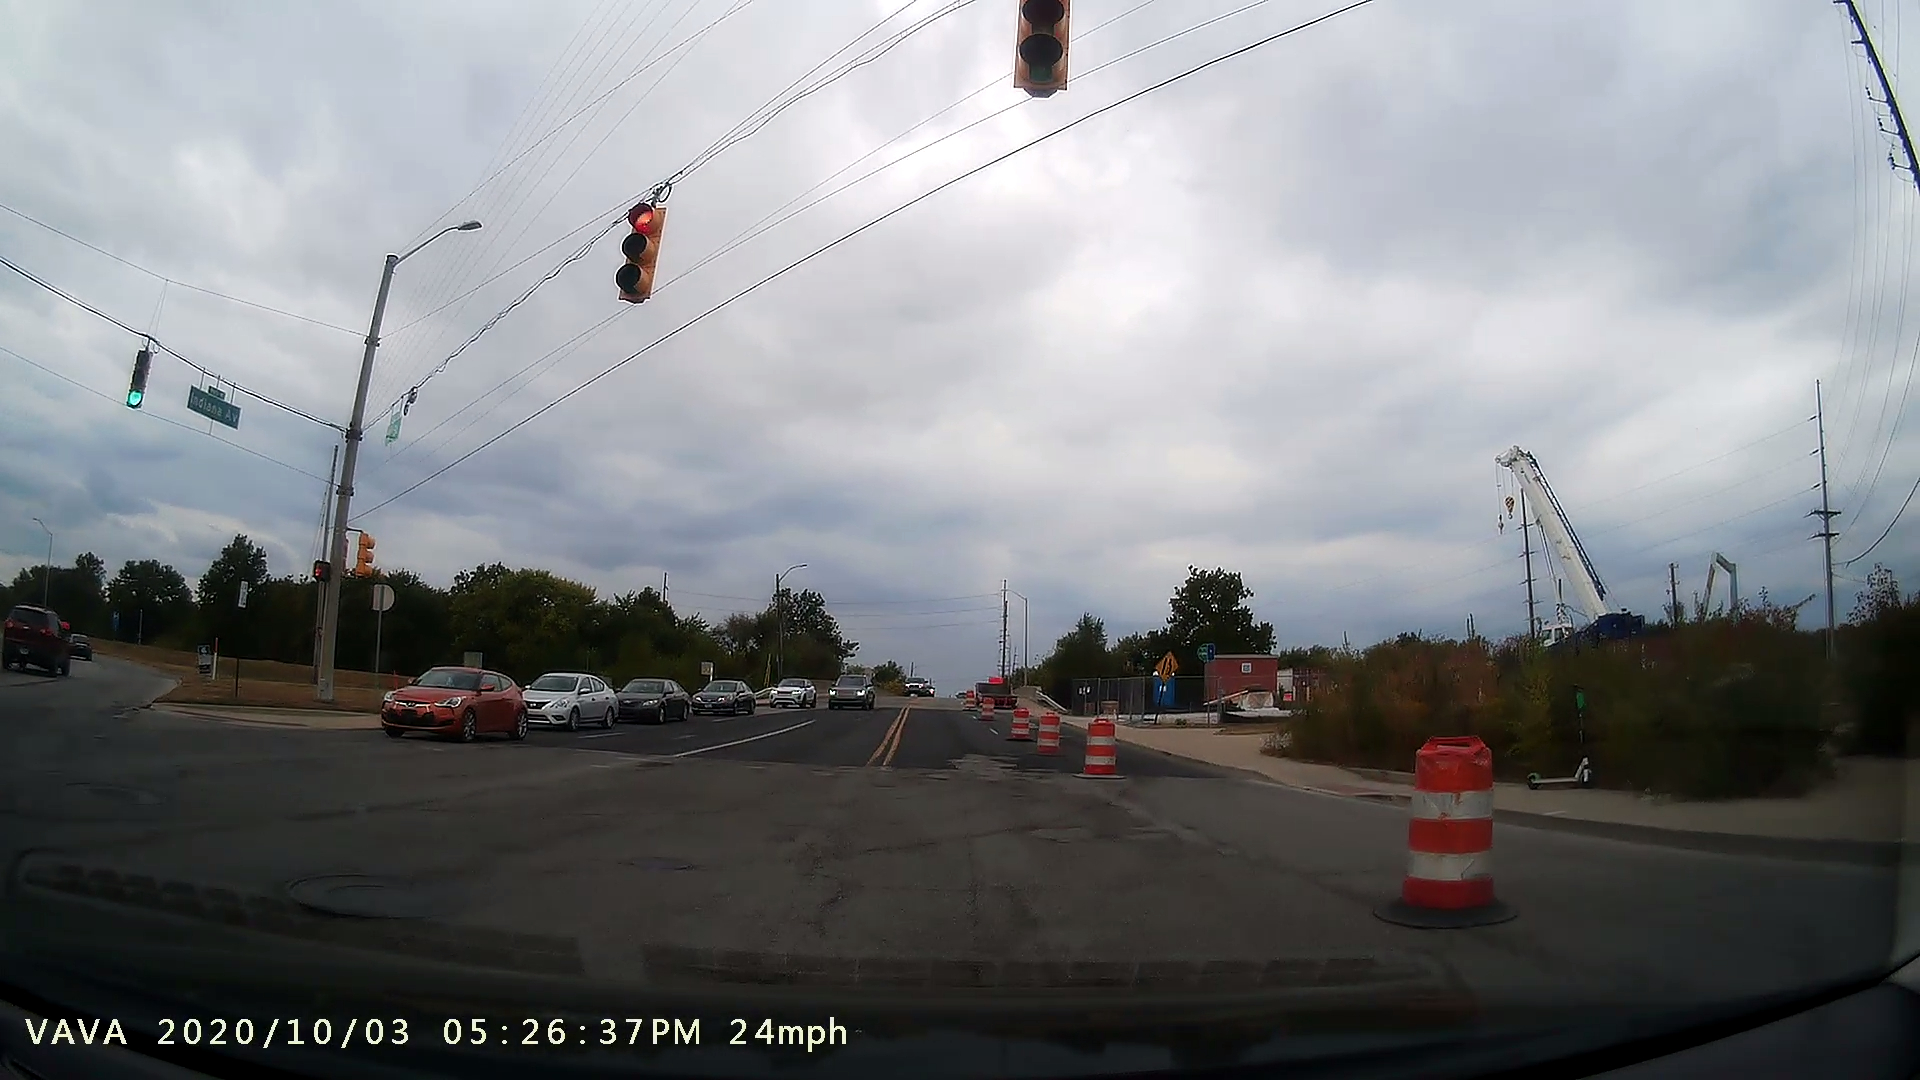const_barrel: (1356, 717, 1516, 942), (1065, 708, 1131, 781), (1033, 698, 1067, 756)
